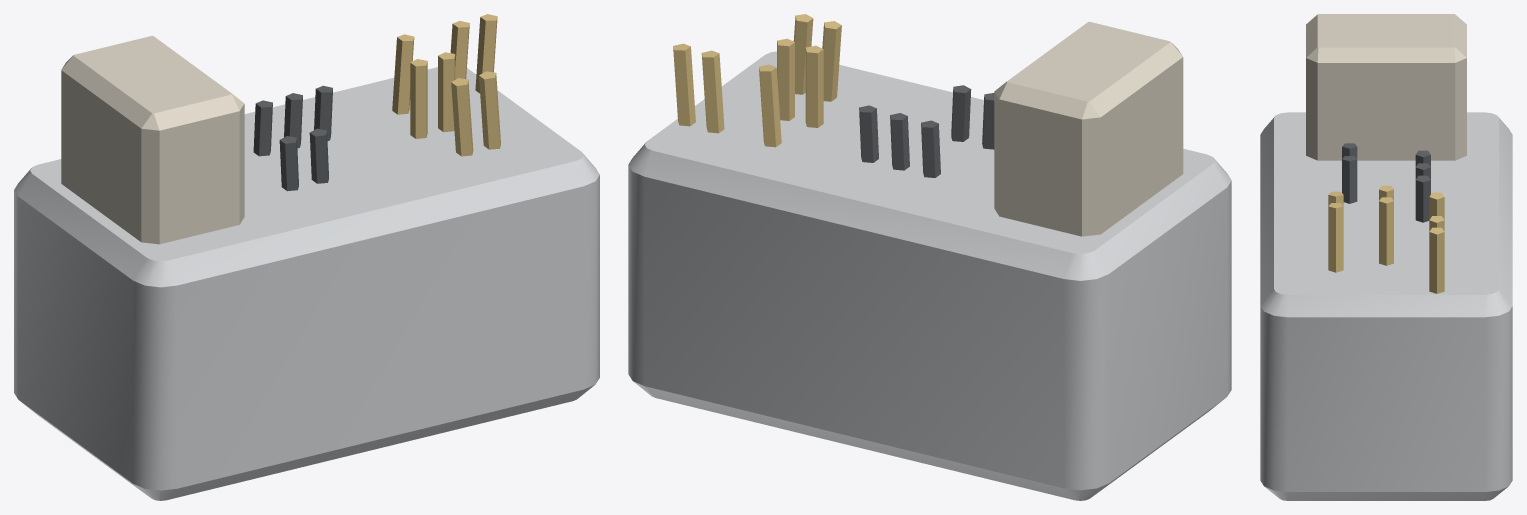
The model's file is bar-pub-and-brewery-taproom-bar-caddy-79d54c6a__18440.glb.
3 views of the same model, side by side, from view 1: azimuth 30°, elevation 25°; view 2: azimuth 150°, elevation 25°; view 3: azimuth 270°, elevation 25° (orthographic). The views are drawn at different scales.
Parts seen in each view (by area): view 1: bar-caddy; view 2: bar-caddy; view 3: bar-caddy.
Boxes of the visible parts, x1,y1,x2,y2 form: bar-caddy: [14, 14, 599, 500]; bar-caddy: [628, 14, 1231, 500]; bar-caddy: [1260, 14, 1512, 500].
Bounding box in the file's own units: 0.2 × 0.152 × 0.11.
